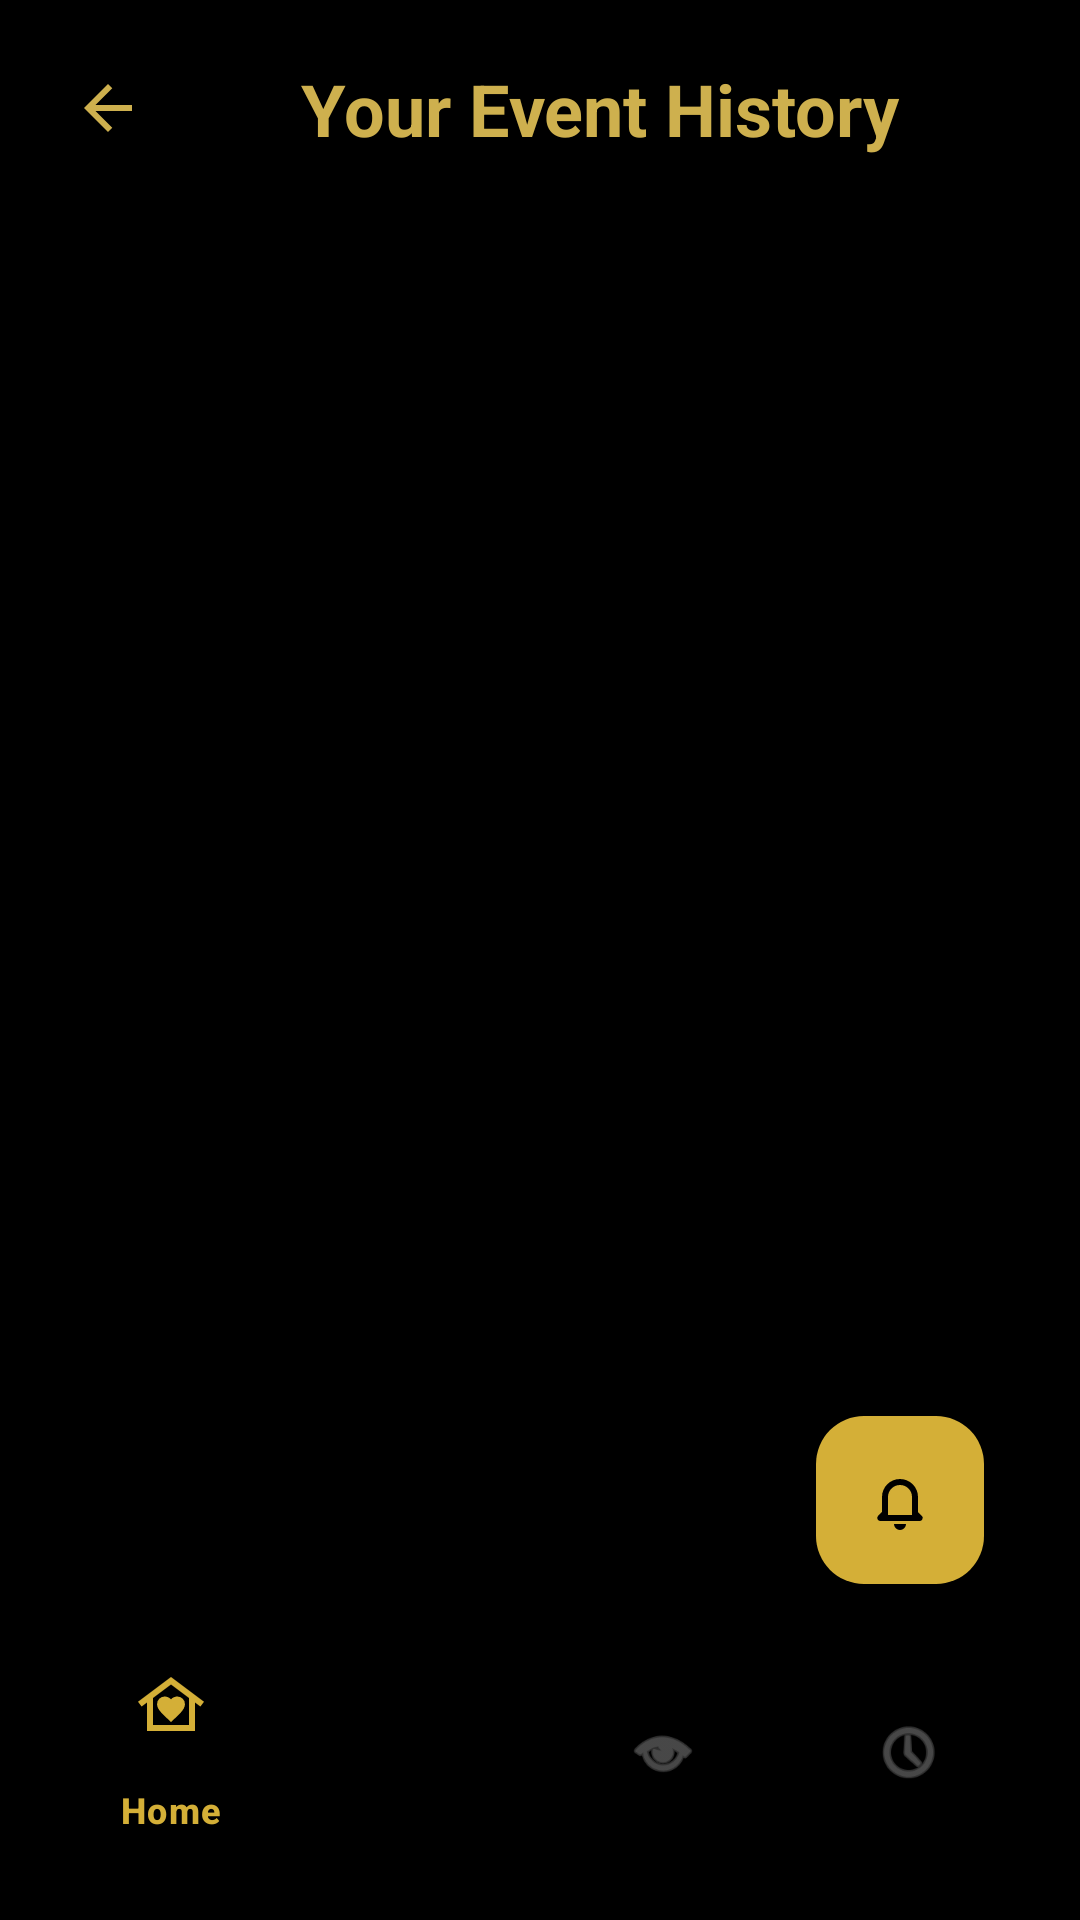

Icons on this 1080 × 1920 Android screen, each with the point to tap as [x,y]:
Back: [108,108]
Notifications: [900,1500]
